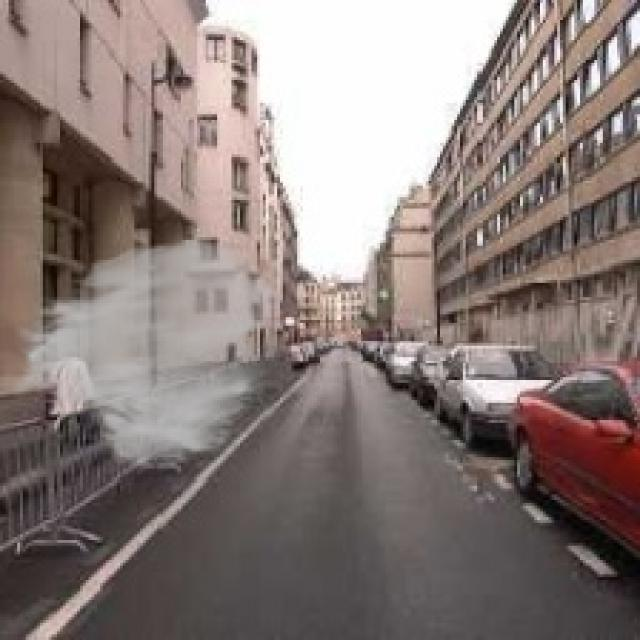Smoke: (6, 234, 280, 472)
